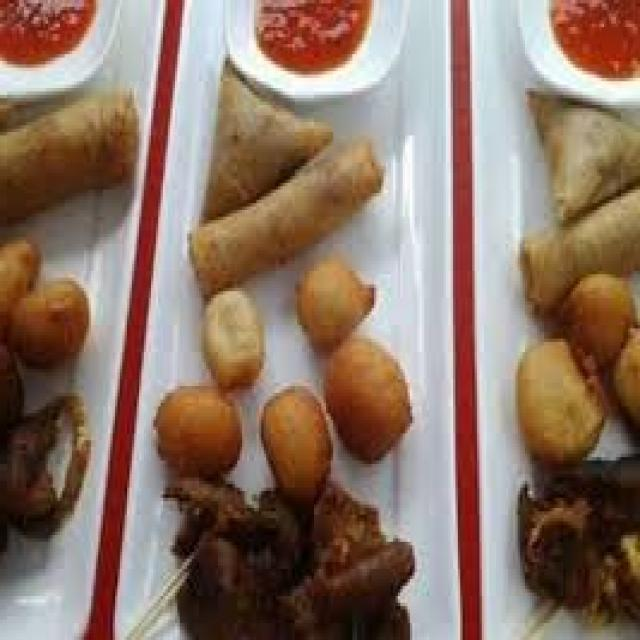Samosa: (197, 54, 331, 210), (524, 94, 639, 198)
Spring Rolls: (189, 129, 386, 291), (2, 78, 142, 210), (512, 172, 640, 310)
